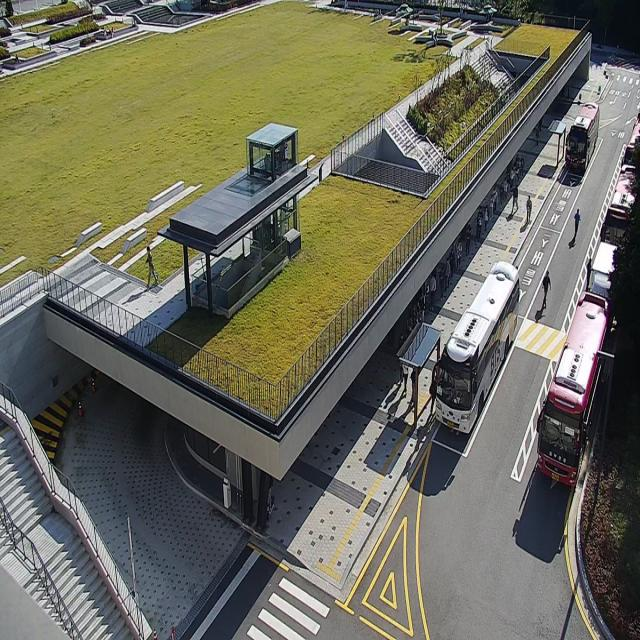queue: (414, 153, 524, 427)
